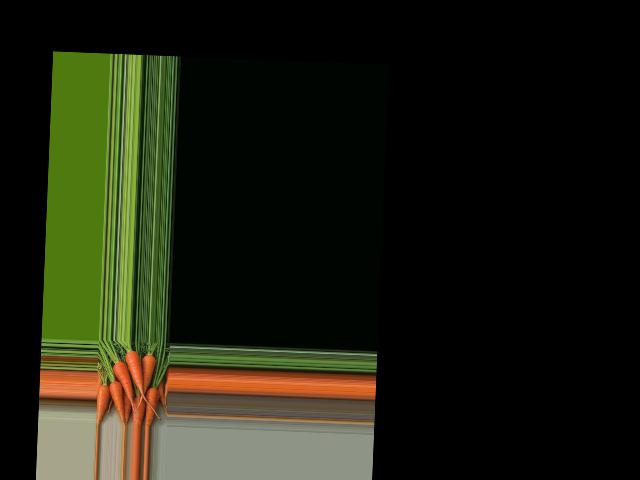carrot: (97, 383, 106, 425)
